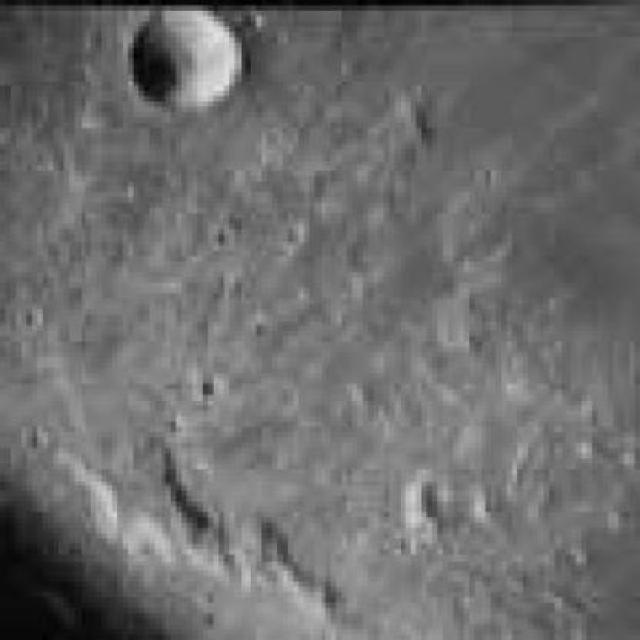crater: (132, 9, 235, 109)
